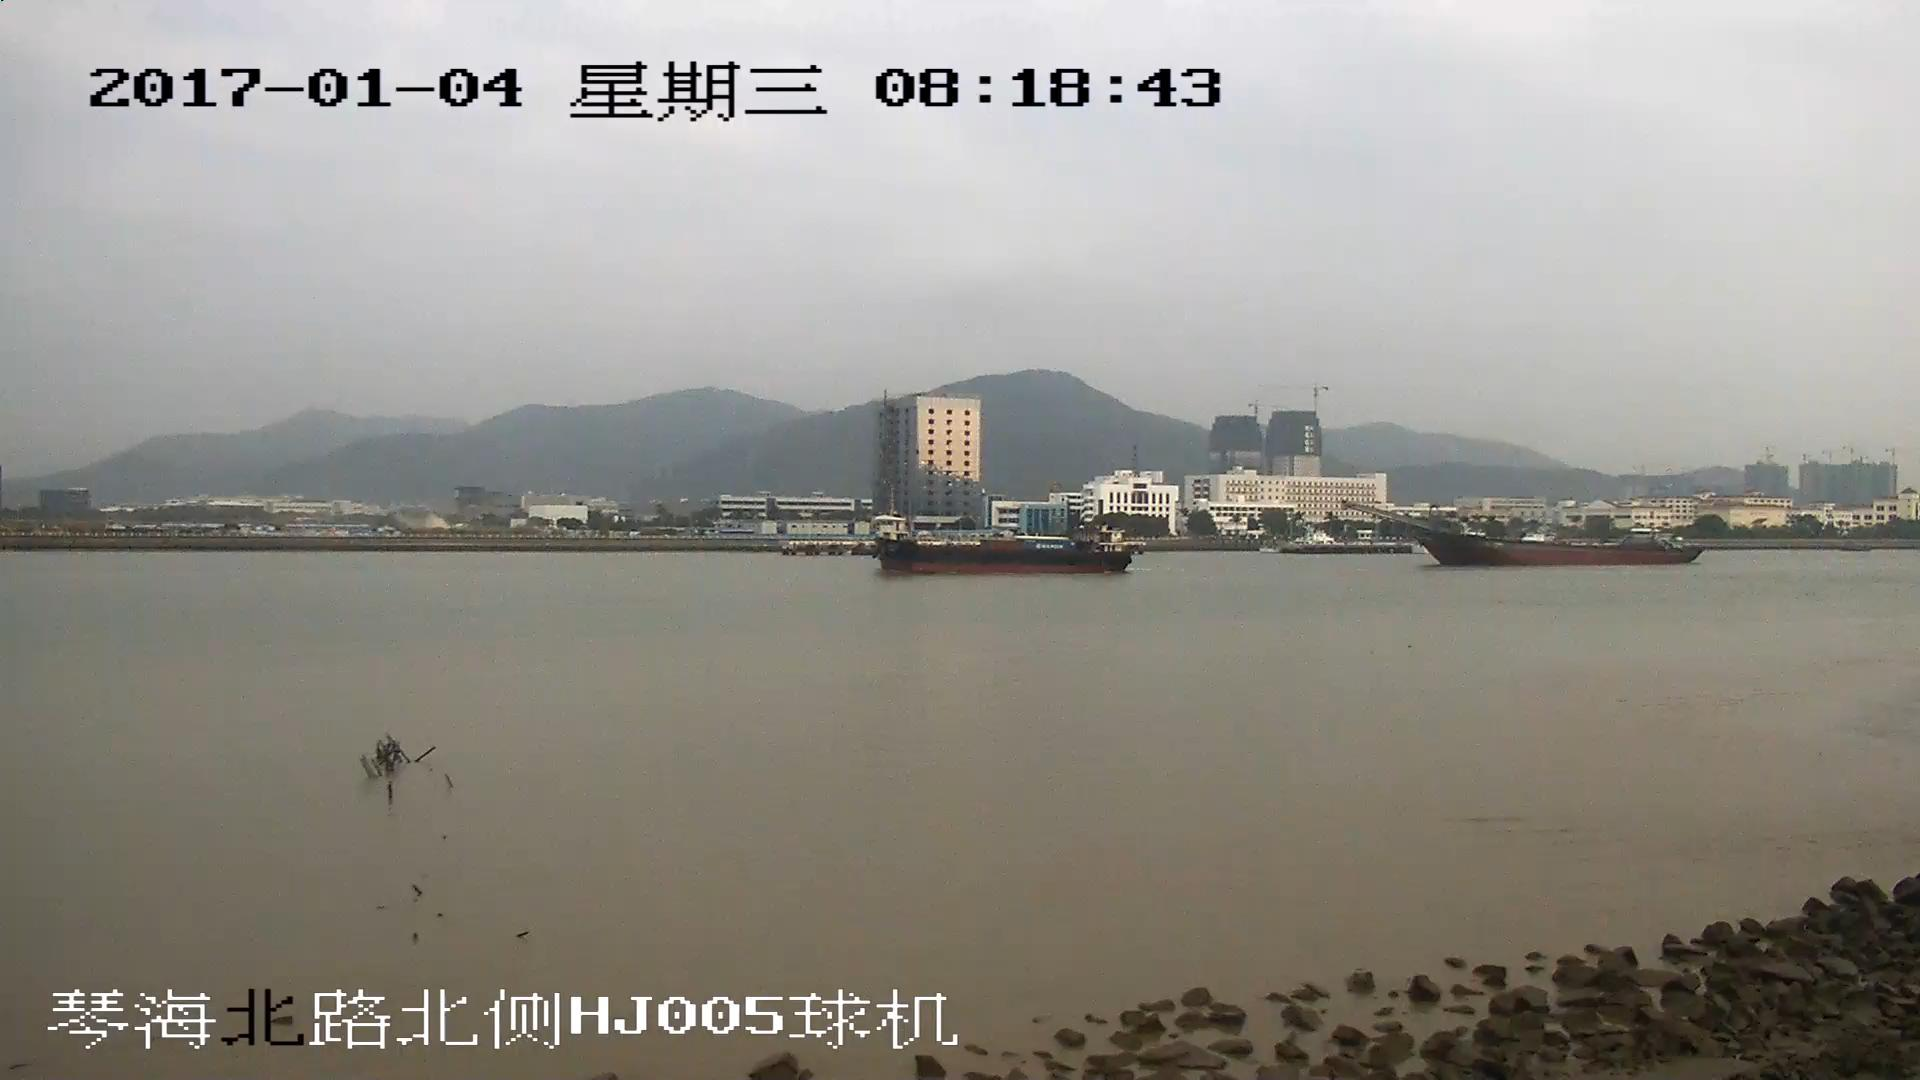Ship: (1342, 504, 1701, 571), (873, 525, 1131, 574)
